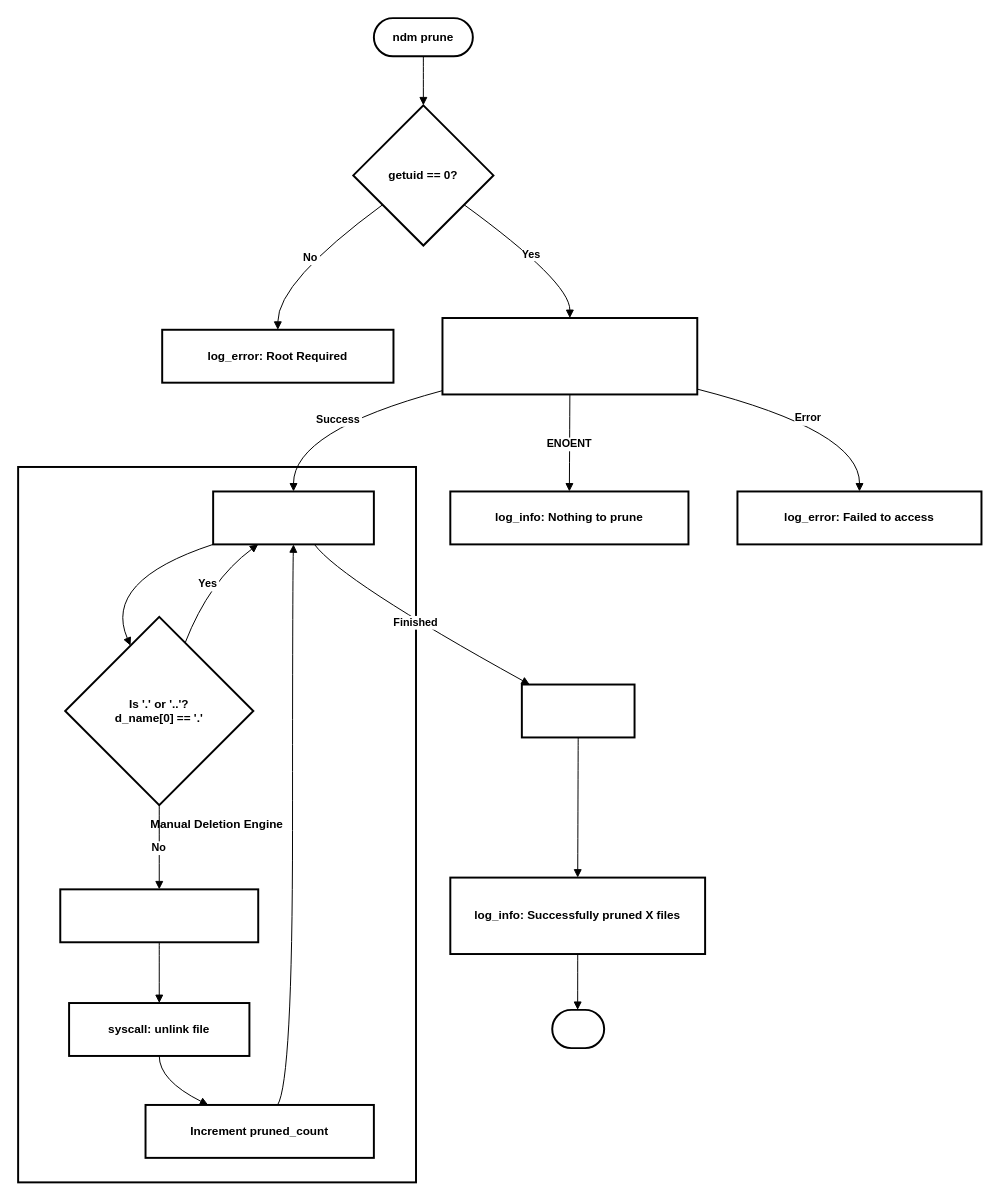
Some shapes in this 999 by 1200 pixel diagram are drawn without their labels. Here are the shapes that lost their labels. From the top down, the centre of each, then its label:
At point (569, 356): "opendir: /var/cache/nodeman".
At point (293, 517): "Iterate: readdir".
At point (577, 710): "closedir".
At point (159, 915): "snprintf: full file path".
At point (578, 1028): "End".
